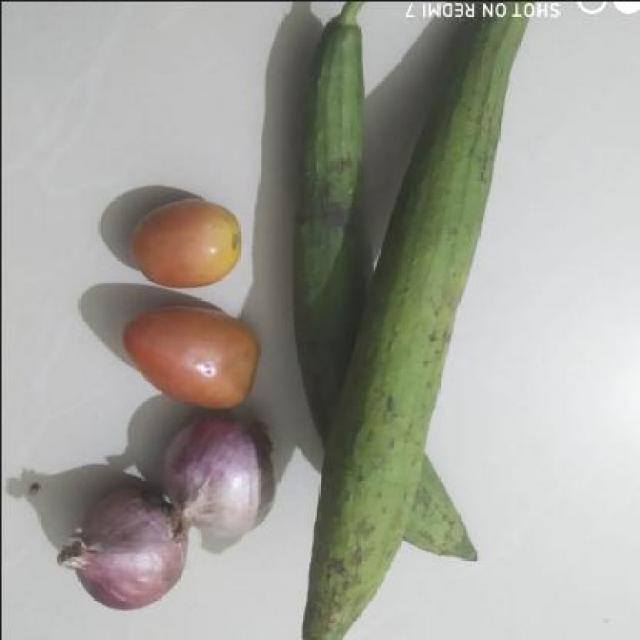onion: (42, 492, 182, 612), (165, 421, 269, 537)
tomato: (117, 294, 252, 415), (115, 189, 250, 291)
